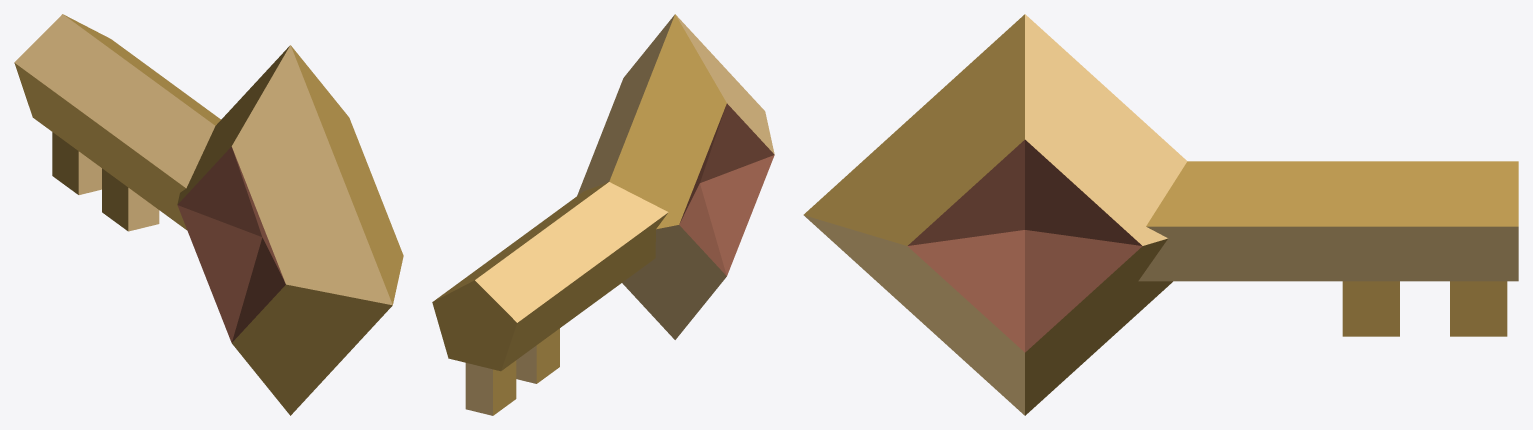
File: TB_D_Prop_Chest_Key_A.FBX
3 renders of one model, left to right at view 1: azimuth 30°, elevation 25°; view 2: azimuth 150°, elevation 25°; view 3: azimuth 270°, elevation 25°, orthographic. The views are drawn at different scales.
Parts seen in each view (by area): view 1: TB_D_Prop_Chest_Key_A; view 2: TB_D_Prop_Chest_Key_A; view 3: TB_D_Prop_Chest_Key_A.
Part boxes in pixels (x1,y1,x2,y2): TB_D_Prop_Chest_Key_A: (14, 14, 403, 415); TB_D_Prop_Chest_Key_A: (432, 14, 774, 415); TB_D_Prop_Chest_Key_A: (803, 14, 1518, 415).
Bounding box in the file's own units: 0.05 × 0.1507 × 0.243.
